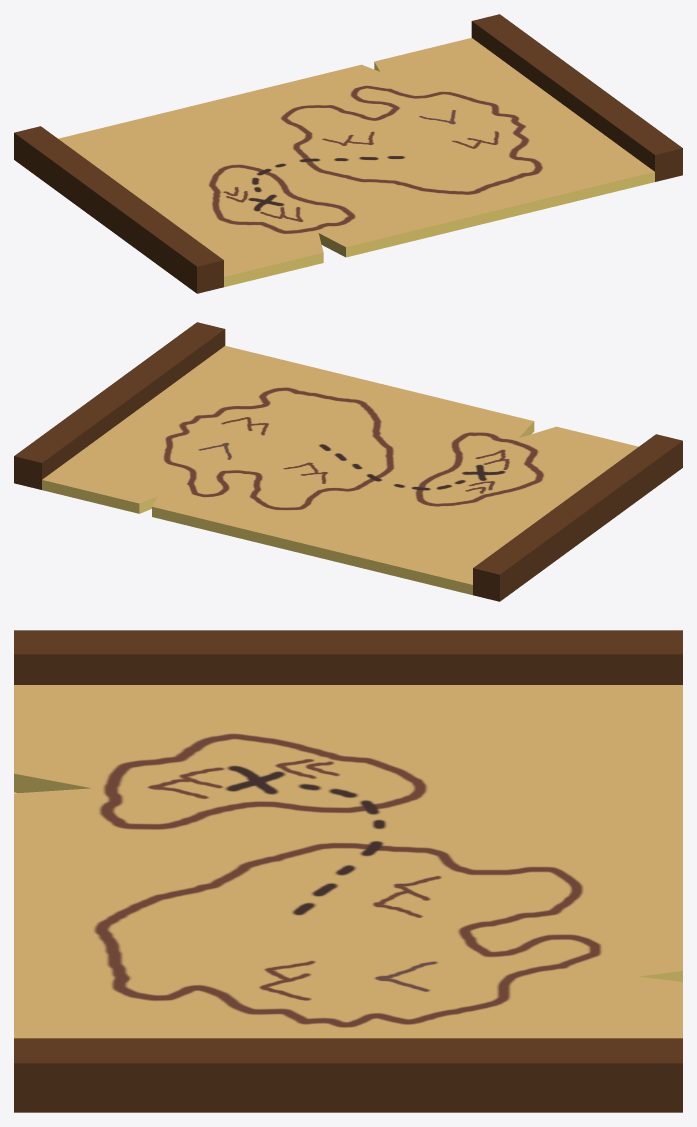
File: map.glb
3 renders of one model, top to bottom at view 1: azimuth 30°, elevation 25°; view 2: azimuth 150°, elevation 25°; view 3: azimuth 270°, elevation 25°, orthographic. The views are drawn at different scales.
Parts seen in each view (by area): view 1: Cube; view 2: Cube; view 3: Cube.
Part boxes in pixels (<box>): Cube: <box>14,14,682,293</box>; Cube: <box>14,322,682,601</box>; Cube: <box>14,630,682,1112</box>.
Size of the model in its own units: 3.06 by 0.1633 by 2.
Materials: 1 (1 with a texture image).
